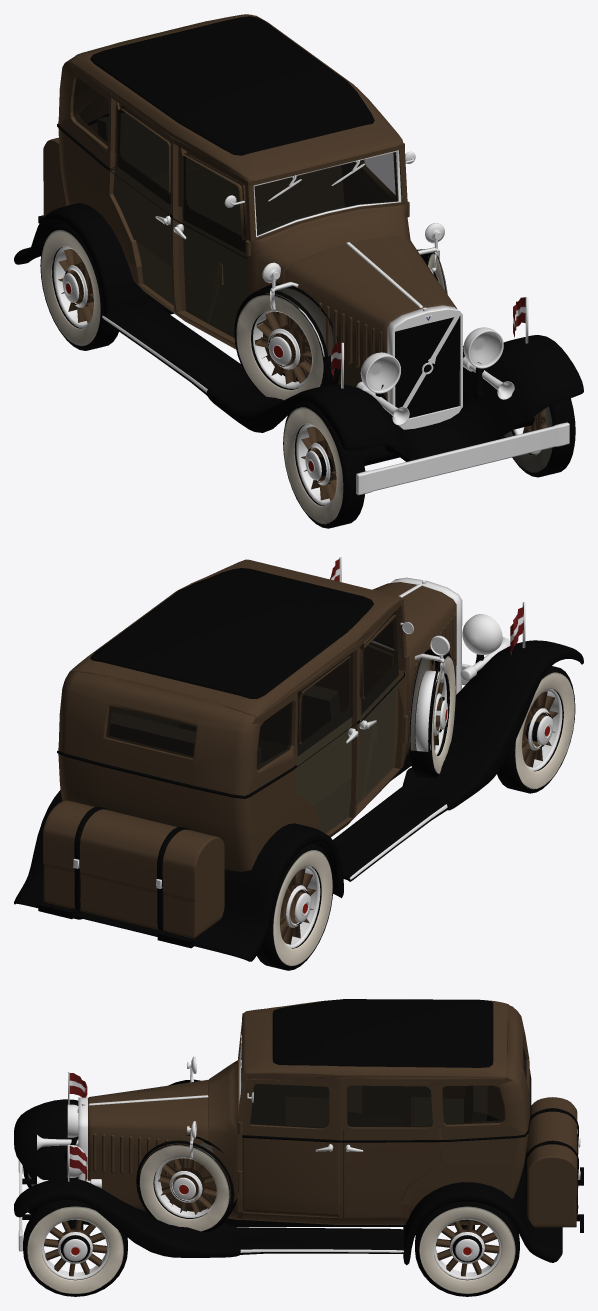
File: volvo-pv654-sedan-free-v2-65f8f2.glb
3 renders of one model, top to bottom at view 1: azimuth 30°, elevation 25°; view 2: azimuth 150°, elevation 25°; view 3: azimuth 270°, elevation 25°, orthographic. The views are drawn at different scales.
Visible parts, largest first — view 1: body, wheel-front-right, wheel-back-right, wheel-front-left; view 2: body, wheel-front-right, wheel-back-right; view 3: body, wheel-front-left, wheel-back-left.
Part boxes in pixels (x1,y1,x2,y2): body: [14, 14, 583, 505]; wheel-front-right: [234, 283, 365, 528]; wheel-back-right: [40, 223, 118, 350]; wheel-front-left: [424, 252, 575, 477]; body: [14, 557, 583, 961]; wheel-front-right: [408, 649, 575, 793]; wheel-back-right: [256, 843, 333, 970]; body: [14, 999, 583, 1279]; wheel-front-left: [23, 1135, 237, 1296]; wheel-back-left: [415, 1201, 519, 1296].
Size of the model in its own units: 1.17 by 1.24 by 2.89.
15 materials, 2 textured.
